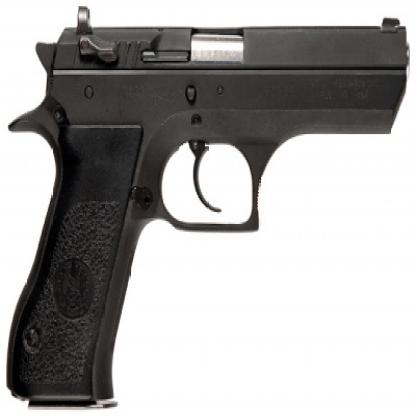Guns: (4, 3, 415, 415)
